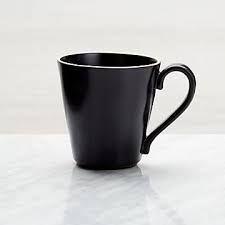cup: (54, 47, 200, 177)
